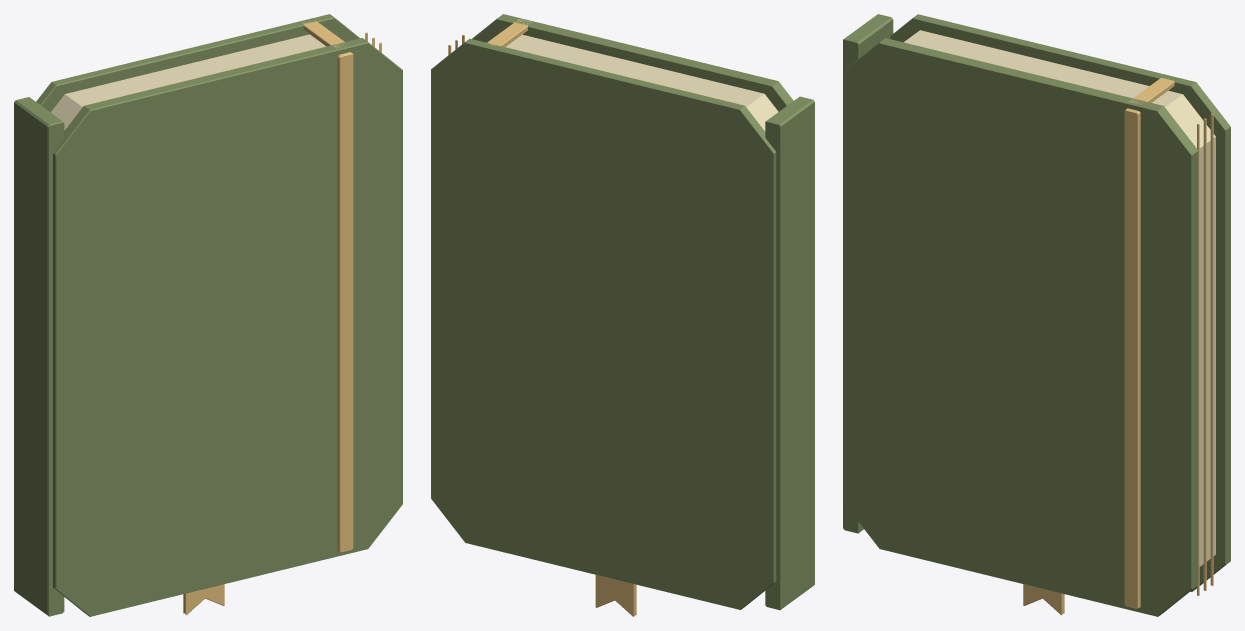
File: notebook.glb
3 renders of one model, left to right at view 1: azimuth 30°, elevation 25°; view 2: azimuth 150°, elevation 25°; view 3: azimuth 330°, elevation 25°, orthographic.
Visible parts, largest first — view 1: notebook; view 2: notebook; view 3: notebook.
Part boxes in pixels (x1,y1,x2,y2): notebook: [14, 14, 402, 616]; notebook: [431, 14, 814, 616]; notebook: [843, 14, 1230, 616].
Bounding box in the file's own units: 0.147 × 0.2199 × 0.03.
